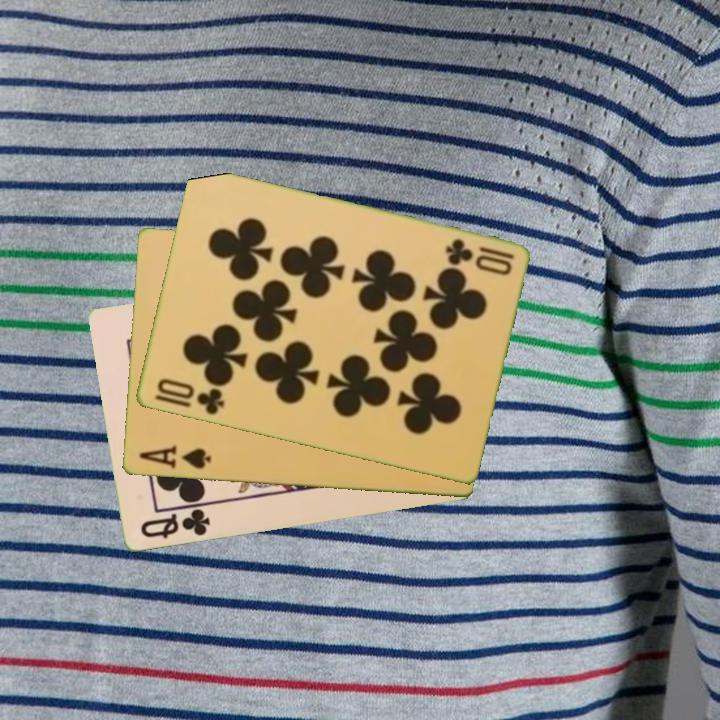10c: (441, 235, 516, 279), (153, 375, 227, 418)
As: (135, 442, 214, 472)
Qc: (136, 505, 213, 542)
